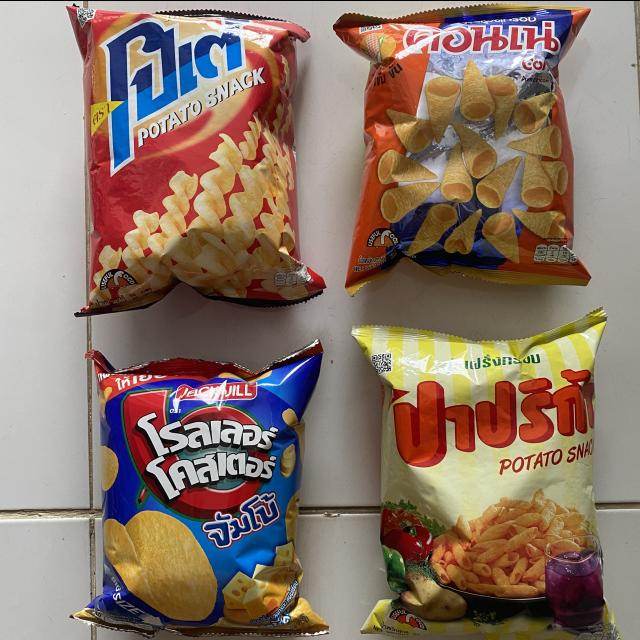plastik: (353, 308, 624, 640), (67, 4, 325, 314), (73, 341, 327, 636), (334, 4, 590, 293)
